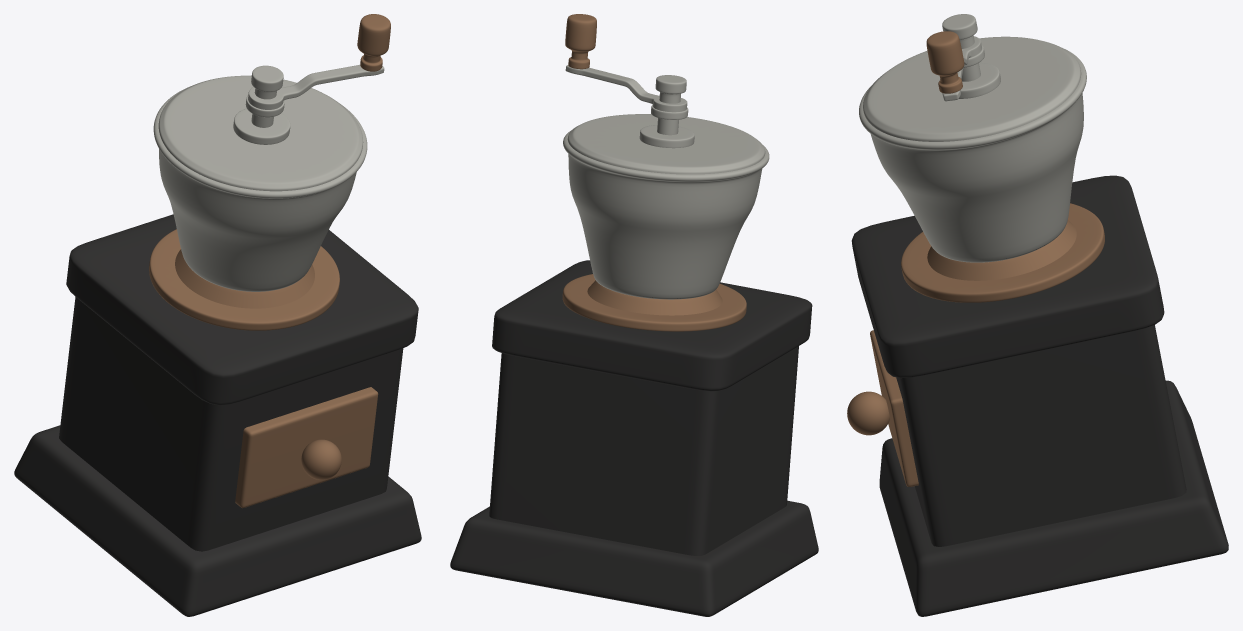
The model's file is vintage-coffee-grinder.glb.
3 renders of one model, left to right at view 1: azimuth 30°, elevation 25°; view 2: azimuth 150°, elevation 25°; view 3: azimuth 270°, elevation 25°, orthographic. The views are drawn at different scales.
Parts seen in each view (by area): view 1: Cube.017, Cube.019, Cube.018, Cylinder.014, Cylinder.015, Cube.020, Cylinder.012, Cylinder.013, Cylinder.019, Cylinder.020, Cylinder.016, Sphere.002 (+1 smaller); view 2: Cube.017, Cube.018, Cylinder.014, Cube.019, Cylinder.015, Cylinder.012, Cylinder.013, Cylinder.020, Cylinder.019, Cylinder.017, Cylinder.016; view 3: Cube.017, Cube.019, Cube.018, Cylinder.014, Cylinder.015, Cylinder.012, Cylinder.013, Cube.020, Cylinder.020, Sphere.002, Cylinder.017, Cylinder.016.
Boxes of the visible parts, x1,y1,x2,y2 form: Cube.017: [59, 297, 403, 551]; Cube.019: [66, 214, 418, 405]; Cube.018: [14, 425, 421, 616]; Cylinder.014: [153, 87, 367, 291]; Cylinder.015: [158, 75, 363, 191]; Cube.020: [235, 387, 378, 507]; Cylinder.012: [149, 229, 339, 330]; Cylinder.013: [175, 249, 314, 308]; Cylinder.019: [248, 64, 384, 109]; Cylinder.020: [357, 14, 390, 71]; Cylinder.016: [233, 108, 290, 144]; Sphere.002: [301, 439, 341, 479]; Cube.017: [489, 346, 798, 555]; Cube.018: [450, 500, 818, 616]; Cylinder.014: [563, 130, 769, 299]; Cube.019: [492, 260, 812, 391]; Cylinder.015: [567, 114, 765, 174]; Cylinder.012: [562, 274, 746, 331]; Cylinder.013: [587, 280, 722, 315]; Cylinder.020: [565, 14, 596, 69]; Cylinder.019: [565, 65, 687, 112]; Cylinder.017: [655, 75, 686, 135]; Cylinder.016: [639, 125, 694, 148]; Cube.017: [896, 325, 1186, 546]; Cube.019: [851, 175, 1164, 378]; Cube.018: [879, 380, 1228, 616]; Cylinder.014: [859, 49, 1086, 262]; Cylinder.015: [863, 36, 1081, 141]; Cylinder.012: [901, 203, 1104, 302]; Cylinder.013: [927, 220, 1076, 280]; Cube.020: [870, 330, 918, 486]; Cylinder.020: [926, 31, 964, 93]; Sphere.002: [847, 391, 889, 435]; Cylinder.017: [942, 14, 980, 81]; Cylinder.016: [940, 62, 1000, 98].
Bounding box in the file's own units: 3.92 × 6.92 × 4.23.
